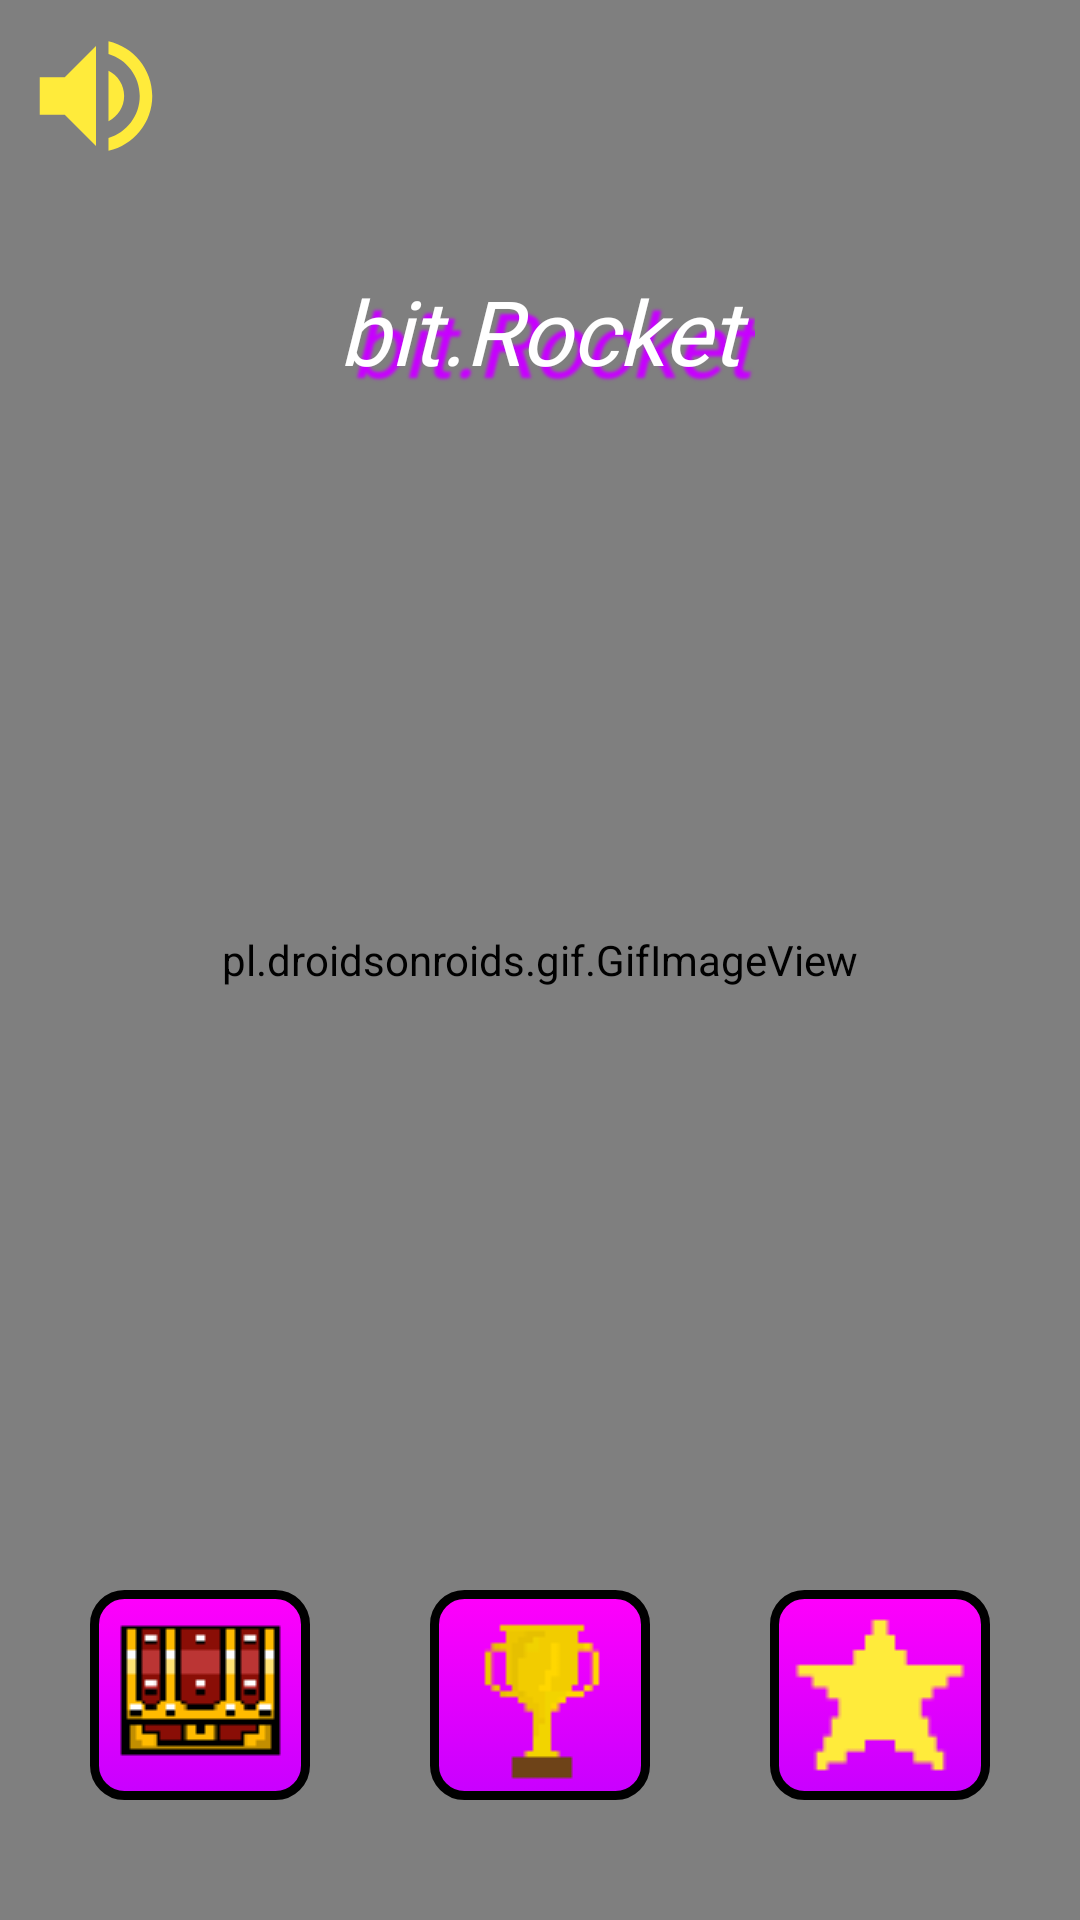

Icons on this 1080px×1920px Android screen, each with the point to tap as [x,y]:
chest: [200,1695]
pixel start: [880,1695]
trophy: [540,1695]
volume enable: [96,96]
